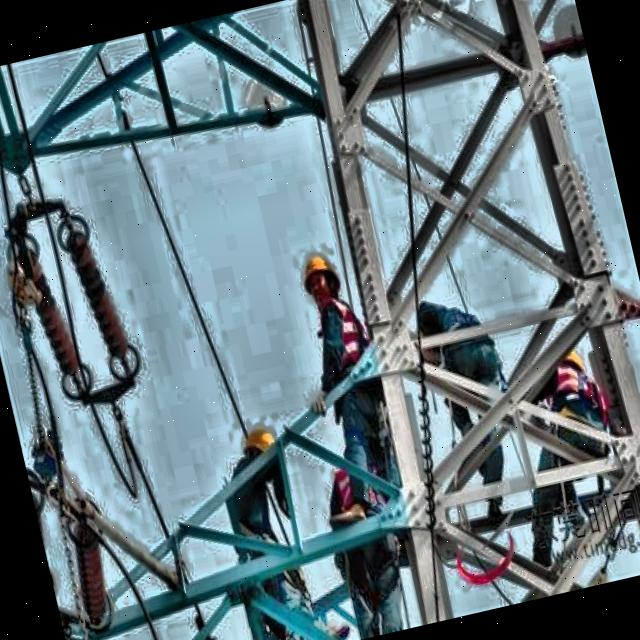helmet: (236, 412, 286, 482), (297, 245, 343, 312)
